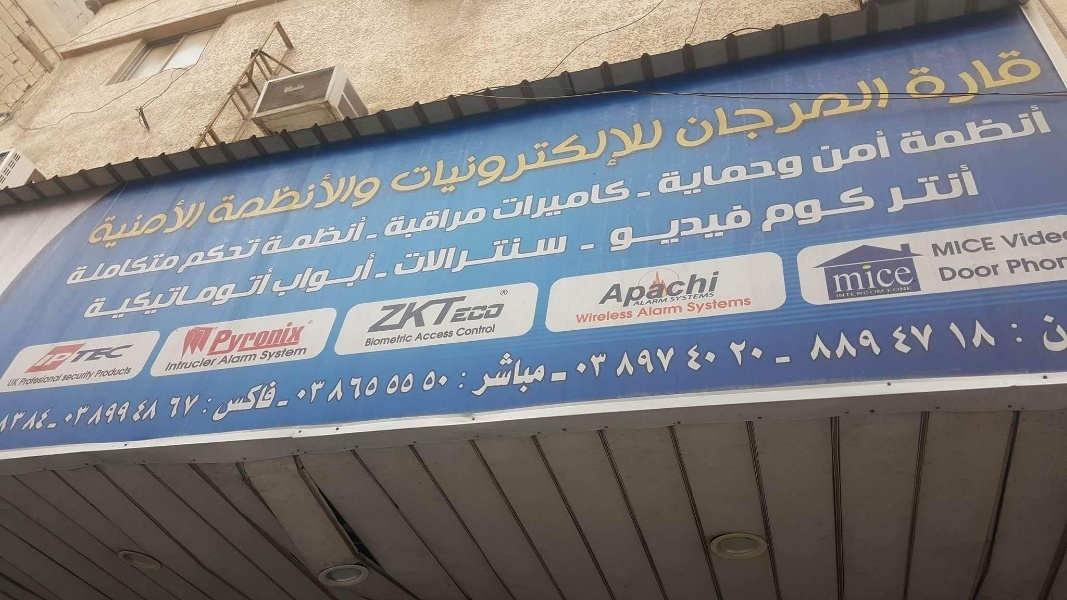text: (401, 117, 416, 203), (417, 117, 432, 203), (433, 117, 448, 203), (449, 117, 464, 203), (465, 117, 480, 203), (481, 117, 496, 203), (497, 117, 512, 203), (513, 117, 528, 203), (529, 117, 544, 203), (545, 117, 560, 203), (561, 117, 576, 203), (577, 117, 592, 203), (593, 117, 608, 203), (609, 117, 624, 203), (625, 117, 640, 203), (641, 117, 656, 203), (673, 75, 688, 155), (689, 75, 704, 155), (705, 75, 720, 155), (721, 75, 736, 155), (737, 75, 752, 155), (753, 75, 768, 155), (769, 75, 784, 155), (785, 75, 800, 155), (801, 75, 816, 155), (817, 75, 832, 155), (833, 75, 848, 155), (849, 75, 864, 155), (865, 75, 880, 155), (881, 75, 896, 155), (225, 166, 240, 232), (241, 166, 256, 232), (257, 166, 272, 232), (273, 166, 288, 232), (289, 166, 304, 232), (305, 166, 320, 232), (321, 166, 336, 232), (337, 166, 352, 232), (353, 166, 368, 232), (897, 46, 912, 112), (913, 46, 928, 112), (929, 46, 944, 112), (945, 46, 960, 112), (961, 46, 976, 112), (977, 46, 992, 112), (993, 46, 1008, 112), (1009, 46, 1024, 112), (1025, 46, 1040, 112), (193, 195, 209, 254), (97, 195, 112, 254), (113, 195, 128, 254), (129, 195, 144, 254), (145, 195, 160, 254), (161, 195, 176, 254), (177, 195, 192, 254), (369, 166, 382, 232), (97, 268, 112, 323), (113, 268, 128, 323), (129, 268, 144, 323), (145, 268, 160, 323), (161, 268, 176, 323), (177, 268, 192, 323), (193, 268, 208, 323), (209, 268, 224, 323), (225, 268, 240, 323), (241, 268, 256, 323), (257, 268, 272, 323), (625, 201, 640, 255), (641, 201, 656, 255), (657, 201, 672, 255), (673, 201, 688, 255), (689, 201, 704, 255), (705, 201, 720, 255), (721, 201, 736, 255), (737, 201, 752, 255), (897, 103, 912, 156), (913, 103, 928, 156), (929, 103, 944, 156), (945, 103, 960, 156), (961, 103, 976, 156), (977, 103, 992, 156), (993, 103, 1008, 156), (1009, 103, 1024, 156), (1025, 103, 1040, 156), (1041, 103, 1056, 156), (401, 229, 416, 282), (417, 229, 432, 282), (433, 229, 448, 282), (449, 229, 464, 282), (465, 229, 480, 282), (481, 229, 496, 282), (497, 229, 512, 282), (513, 229, 528, 282), (529, 229, 544, 282), (545, 229, 560, 282), (897, 162, 912, 215), (913, 162, 928, 215), (929, 162, 944, 215), (945, 162, 960, 215), (961, 162, 976, 215), (212, 166, 224, 232), (497, 351, 512, 402), (513, 351, 528, 402), (529, 351, 544, 402), (657, 151, 672, 201), (673, 151, 688, 201), (689, 151, 704, 201), (705, 151, 720, 201), (721, 151, 736, 201), (737, 151, 752, 201), (753, 151, 768, 201), (769, 151, 784, 201), (785, 151, 800, 201), (289, 251, 304, 301), (305, 251, 320, 301), (321, 251, 336, 301), (337, 251, 352, 301), (353, 251, 368, 301), (817, 128, 832, 177), (833, 128, 848, 177), (849, 128, 864, 177), (865, 128, 880, 177), (769, 185, 784, 233), (785, 185, 800, 233), (801, 185, 816, 233), (817, 185, 832, 233), (833, 185, 848, 233), (849, 185, 864, 233), (225, 378, 240, 426), (241, 378, 256, 426), (257, 378, 272, 426), (497, 179, 512, 226), (513, 179, 528, 226), (529, 179, 544, 226), (545, 179, 560, 226), (561, 179, 576, 226), (577, 179, 592, 226), (593, 179, 608, 226), (609, 179, 624, 226), (611, 201, 624, 255), (657, 117, 665, 203), (881, 128, 895, 177), (1041, 46, 1051, 112), (1041, 312, 1056, 355), (273, 215, 288, 257), (289, 215, 304, 257), (305, 215, 320, 257), (321, 215, 336, 257), (337, 215, 352, 257), (353, 215, 368, 257), (401, 202, 416, 244), (417, 202, 432, 244), (433, 202, 448, 244), (449, 202, 464, 244), (465, 202, 480, 244), (385, 294, 400, 335), (401, 294, 416, 335), (417, 294, 432, 335), (433, 294, 448, 335), (449, 294, 464, 335), (625, 270, 640, 311), (641, 270, 656, 311), (657, 270, 672, 311), (673, 270, 688, 311), (689, 270, 704, 311), (705, 270, 720, 311), (393, 117, 400, 203), (193, 236, 208, 276), (209, 236, 224, 276), (225, 236, 240, 276), (241, 236, 256, 276), (625, 340, 640, 379), (641, 340, 656, 379), (657, 340, 672, 379), (865, 185, 877, 233), (81, 251, 96, 289), (97, 251, 112, 289), (113, 251, 128, 289), (129, 251, 144, 289), (145, 251, 160, 289), (161, 251, 176, 289), (225, 319, 240, 356), (241, 319, 256, 356), (257, 319, 272, 356), (273, 319, 288, 356), (289, 319, 304, 356), (17, 398, 32, 435), (33, 398, 48, 435), (49, 398, 64, 435), (65, 398, 80, 435), (81, 398, 96, 435), (97, 398, 112, 435), (113, 398, 128, 435), (277, 251, 288, 301), (705, 339, 721, 373), (897, 322, 912, 357), (913, 322, 928, 357), (305, 375, 320, 409), (321, 375, 336, 409), (337, 375, 352, 409), (353, 375, 368, 409), (689, 339, 704, 373), (817, 329, 832, 363), (833, 329, 848, 363), (849, 329, 864, 363), (865, 329, 880, 363), (388, 202, 400, 244), (369, 251, 379, 301), (833, 261, 848, 294), (849, 261, 864, 294), (865, 261, 880, 294), (881, 261, 896, 294), (897, 261, 912, 294), (737, 337, 752, 370), (961, 317, 976, 350), (977, 317, 992, 350), (612, 270, 624, 311), (177, 390, 192, 422), (593, 351, 609, 381), (561, 229, 570, 282), (1009, 321, 1024, 352), (946, 317, 960, 350), (577, 351, 592, 381), (369, 375, 382, 409), (1057, 312, 1067, 355), (753, 337, 766, 370), (145, 396, 160, 424), (49, 343, 64, 369), (65, 343, 80, 369), (81, 343, 96, 369), (97, 343, 112, 369), (113, 343, 128, 369), (70, 251, 80, 289), (1009, 251, 1024, 276), (1025, 251, 1040, 276), (1041, 251, 1056, 276), (889, 162, 896, 215), (401, 372, 415, 398), (433, 368, 448, 392), (489, 351, 496, 402), (801, 151, 808, 201), (945, 236, 960, 259), (961, 236, 976, 259), (977, 236, 992, 259), (481, 202, 489, 244), (273, 378, 280, 426), (129, 398, 138, 435), (625, 179, 632, 226), (257, 236, 265, 276), (193, 390, 203, 422), (977, 162, 983, 215), (1009, 229, 1024, 250), (1025, 229, 1040, 250), (1041, 229, 1056, 250), (465, 303, 480, 323), (481, 303, 496, 323), (945, 264, 960, 284), (961, 264, 976, 284), (977, 264, 992, 284), (931, 236, 944, 259), (265, 215, 272, 257), (389, 372, 400, 398), (617, 340, 624, 379), (689, 298, 704, 315), (705, 298, 720, 315), (721, 298, 736, 315), (737, 298, 752, 315), (1057, 251, 1067, 276), (929, 322, 936, 357), (273, 346, 288, 362), (289, 346, 304, 362), (577, 308, 592, 324), (593, 308, 608, 324), (609, 308, 624, 324), (297, 375, 304, 409), (729, 337, 736, 370), (33, 372, 48, 387), (49, 372, 64, 387), (177, 357, 192, 372), (193, 357, 208, 372), (641, 186, 655, 202), (169, 390, 176, 422), (92, 268, 96, 323), (97, 365, 112, 379), (113, 365, 128, 379), (65, 370, 80, 384), (225, 352, 240, 366), (241, 352, 256, 366), (369, 333, 384, 347), (385, 333, 400, 347), (465, 323, 480, 337), (481, 323, 496, 337), (881, 329, 887, 363), (497, 303, 507, 323), (893, 46, 896, 112), (993, 317, 999, 350), (812, 128, 816, 177), (578, 240, 592, 254), (81, 370, 95, 384), (417, 329, 432, 342), (433, 329, 448, 342), (673, 291, 688, 304), (689, 291, 704, 304), (641, 306, 656, 319), (657, 306, 672, 319), (673, 340, 678, 379), (424, 368, 432, 392), (177, 251, 182, 289), (492, 179, 496, 226), (549, 368, 560, 385), (219, 319, 224, 356), (276, 397, 288, 412), (993, 264, 1002, 284), (811, 329, 816, 363), (401, 333, 413, 347), (1000, 229, 1008, 250), (273, 268, 276, 323), (465, 294, 469, 335), (456, 303, 464, 323), (129, 343, 135, 369), (22, 372, 32, 387), (1057, 229, 1064, 250), (263, 346, 272, 362), (625, 308, 634, 324), (369, 232, 383, 242), (937, 264, 944, 284), (209, 395, 216, 415), (849, 289, 864, 298), (865, 289, 880, 298), (705, 291, 715, 304), (673, 306, 683, 319), (459, 367, 464, 393), (1025, 321, 1029, 352), (774, 354, 784, 366), (209, 357, 217, 372), (572, 351, 576, 381), (561, 368, 568, 385), (94, 195, 96, 254), (835, 289, 848, 298), (13, 398, 16, 435), (785, 354, 794, 366), (753, 201, 755, 255), (169, 357, 176, 372), (641, 299, 656, 306), (897, 286, 912, 293), (893, 322, 896, 357), (465, 367, 469, 393), (545, 351, 547, 402), (685, 339, 688, 373), (374, 270, 384, 280), (1004, 251, 1008, 276), (913, 261, 916, 294), (457, 323, 464, 337), (657, 299, 671, 306), (993, 236, 997, 259), (369, 215, 371, 257), (141, 396, 144, 424), (161, 396, 164, 424), (635, 186, 640, 202), (305, 319, 307, 356), (10, 377, 16, 389), (593, 240, 598, 254), (449, 329, 454, 342), (305, 346, 309, 362), (502, 290, 512, 296), (129, 365, 133, 379), (632, 299, 640, 306), (888, 286, 896, 293), (399, 229, 400, 282), (655, 151, 656, 201), (767, 185, 768, 233), (17, 377, 21, 389), (223, 378, 224, 426), (383, 294, 384, 335), (721, 270, 722, 311), (385, 270, 389, 280), (206, 395, 208, 415), (881, 289, 885, 298), (831, 261, 832, 294), (1007, 321, 1008, 352), (257, 352, 259, 366), (449, 368, 450, 392), (366, 232, 368, 242), (687, 298, 688, 315), (575, 308, 576, 324), (289, 397, 290, 412), (223, 352, 224, 366), (367, 333, 368, 347), (671, 291, 672, 304), (639, 306, 640, 319), (913, 286, 914, 293)
